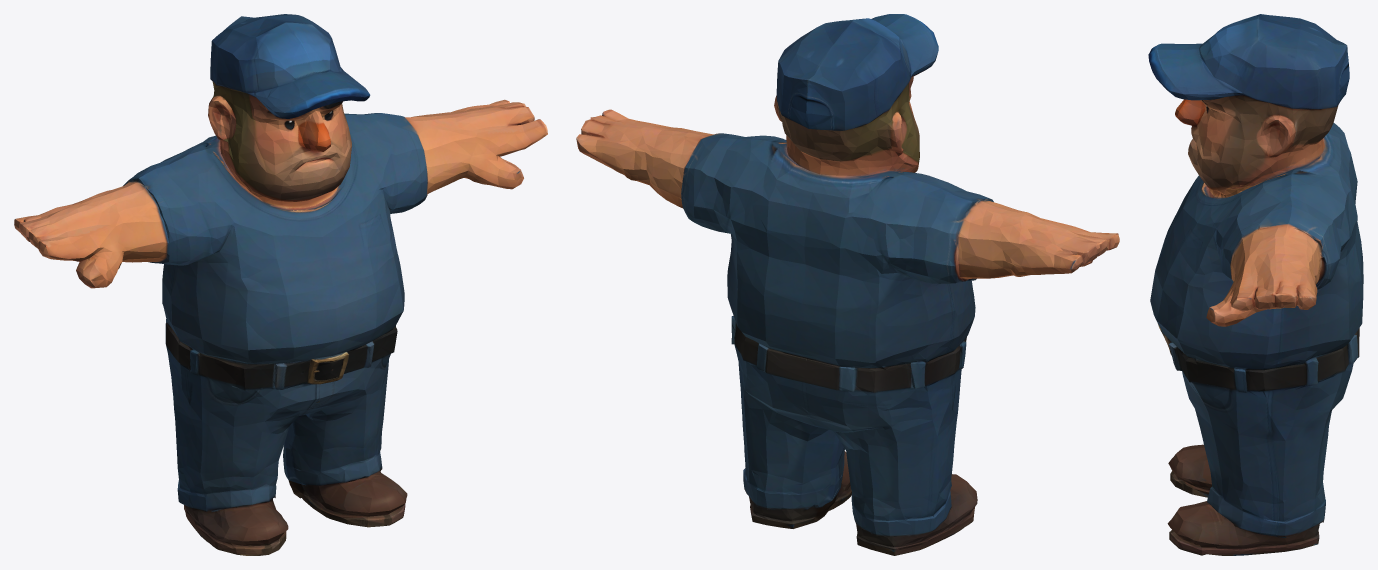
Rendered from Bert_the_chubby_low__0421190201_texture.fbx.
3 views of the same model, side by side, from view 1: azimuth 30°, elevation 25°; view 2: azimuth 150°, elevation 25°; view 3: azimuth 270°, elevation 25° (orthographic). The views are drawn at different scales.
Visible parts, largest first — view 1: temp; view 2: temp; view 3: temp.
Part boxes in pixels (x1,y1,x2,y2): temp: (14, 14, 547, 555); temp: (576, 14, 1119, 555); temp: (1148, 14, 1363, 555).
Size of the model in its own units: 199 by 185 by 73.14.
1 material, 1 textured.
